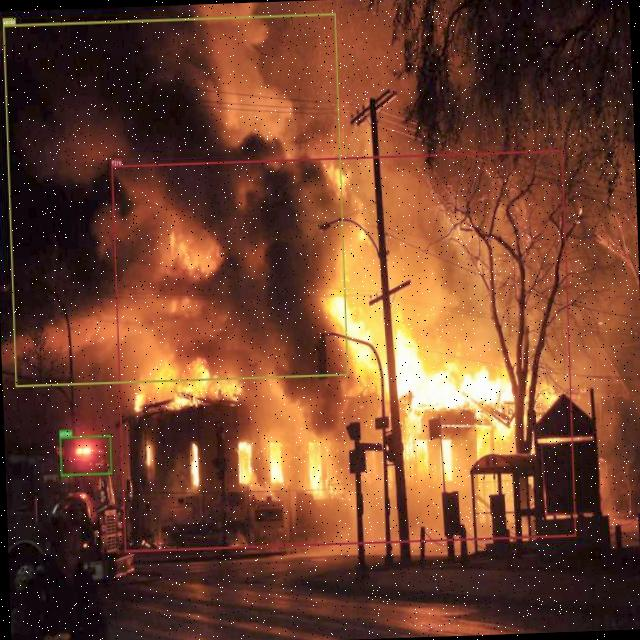fire: (110, 148, 576, 552)
smoke: (2, 12, 347, 386)
